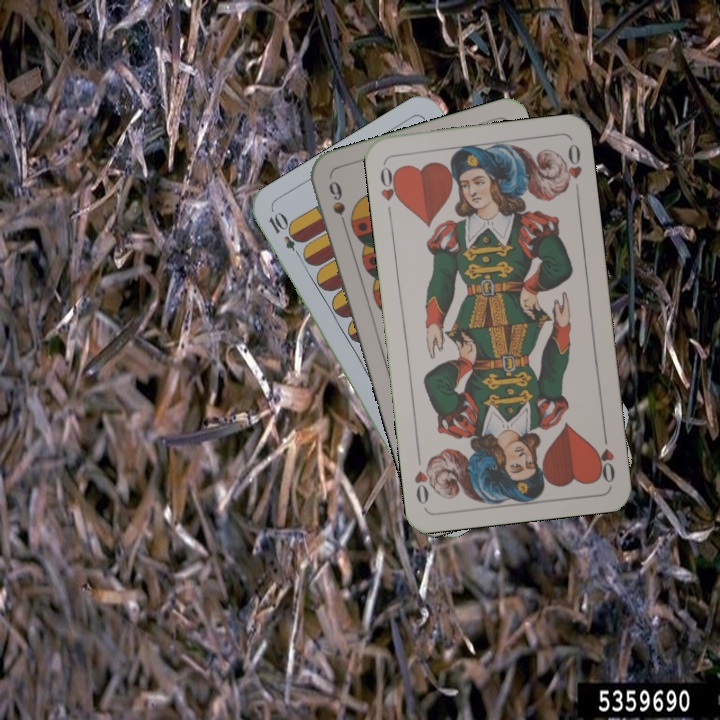E10: (264, 208, 307, 263)
HO: (592, 426, 618, 486), (376, 163, 403, 219)
S9: (324, 176, 351, 234)
